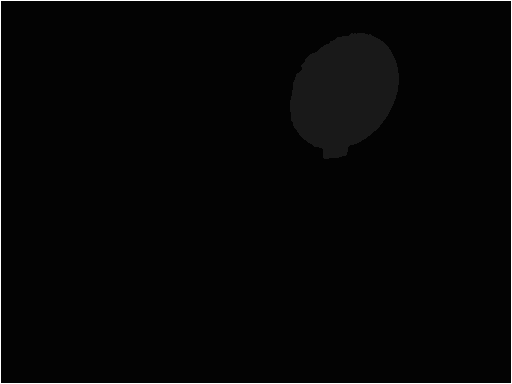speaker: (288, 33, 399, 159)
